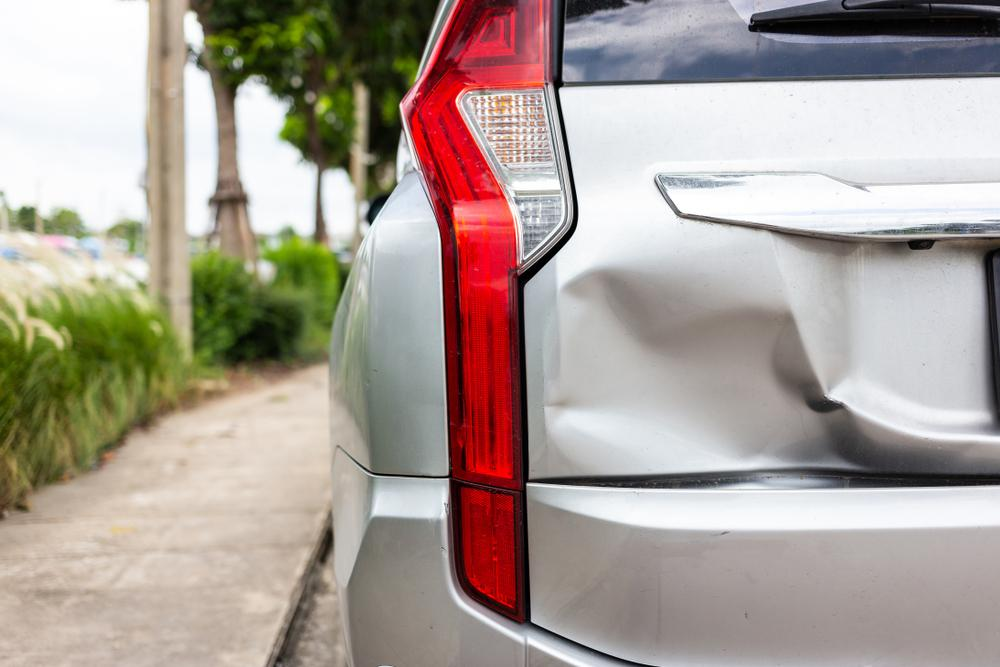dent: (543, 265, 867, 474)
